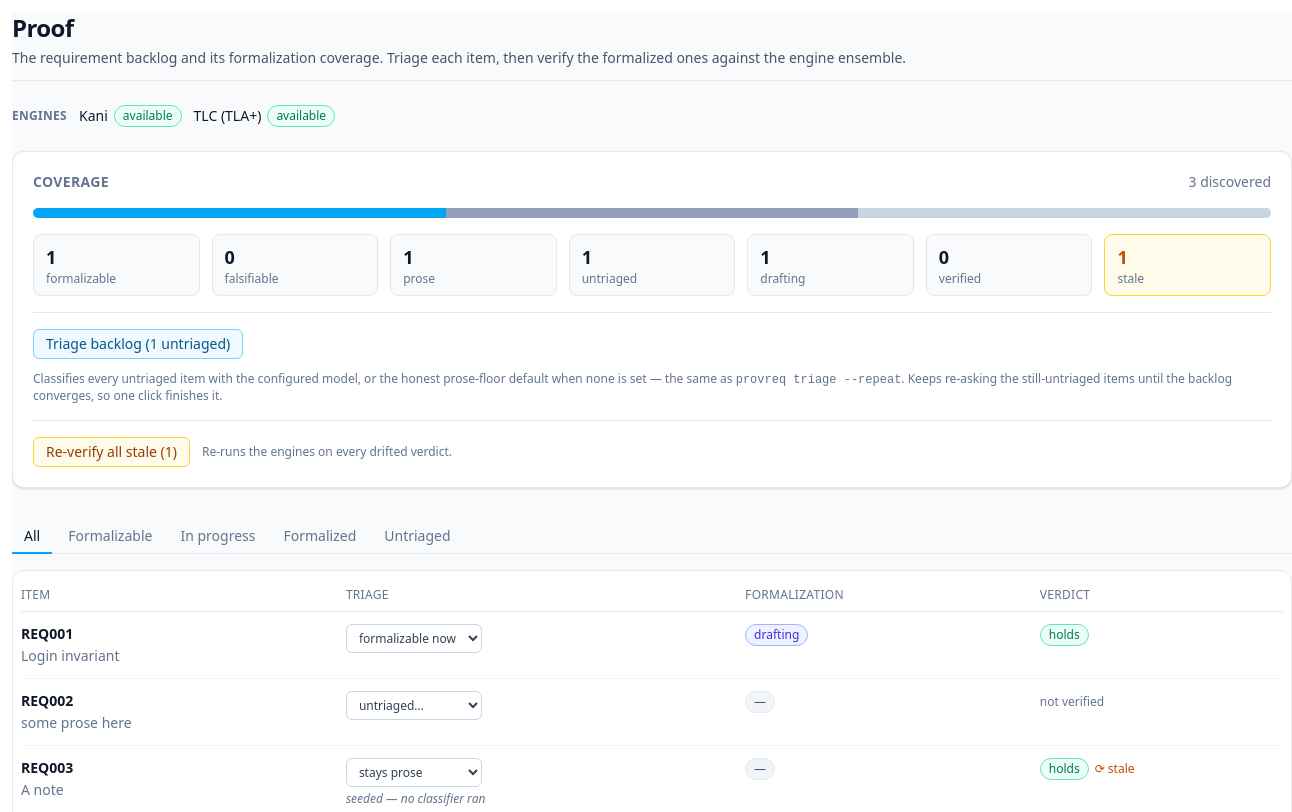
Test case: ProofPage › a failed triage write rolls back and surfaces an error
Check: the button "REQ001" is shown, box [21, 624, 73, 644]
Step 1. Select "stays prose" in the dropdown named "Triage bucket for REQ002" → (414, 706), box [346, 691, 482, 720]
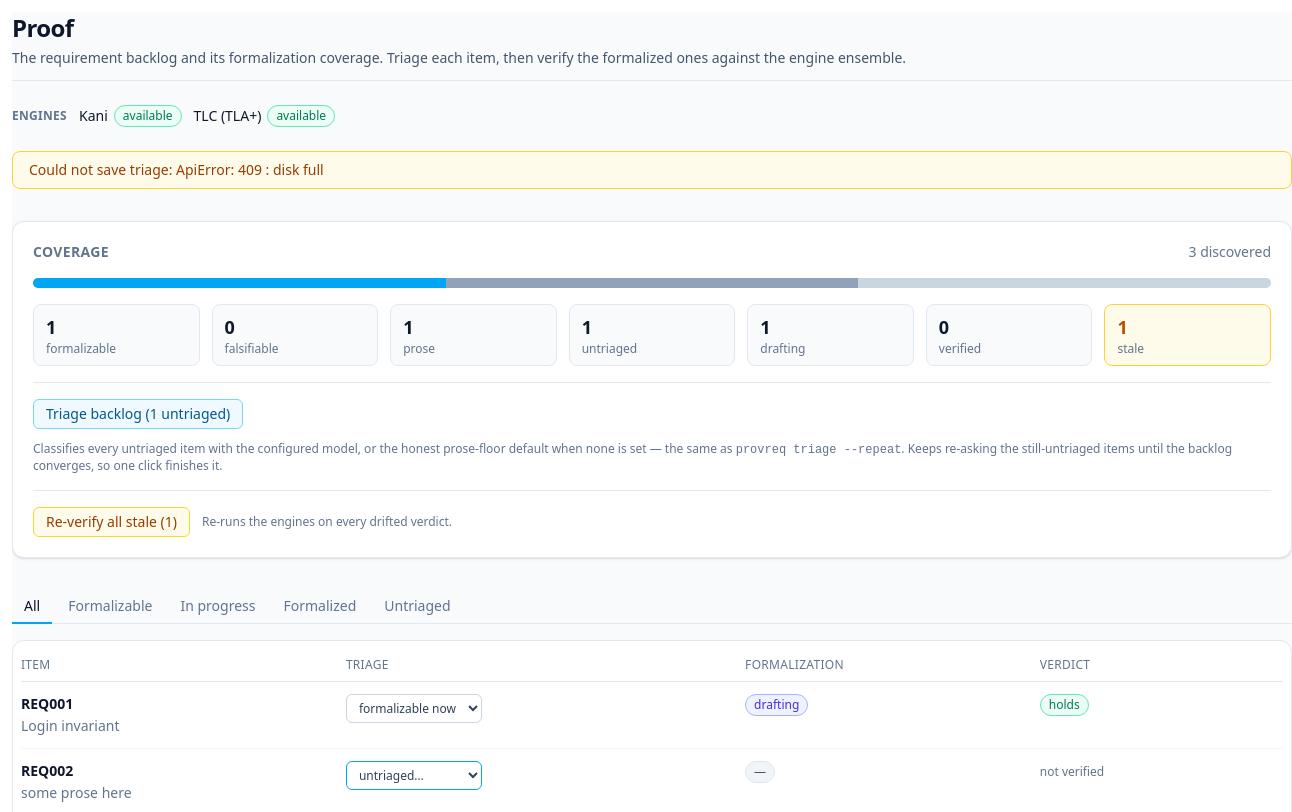
Check: the message shows "disk full", box [176, 160, 324, 179]
